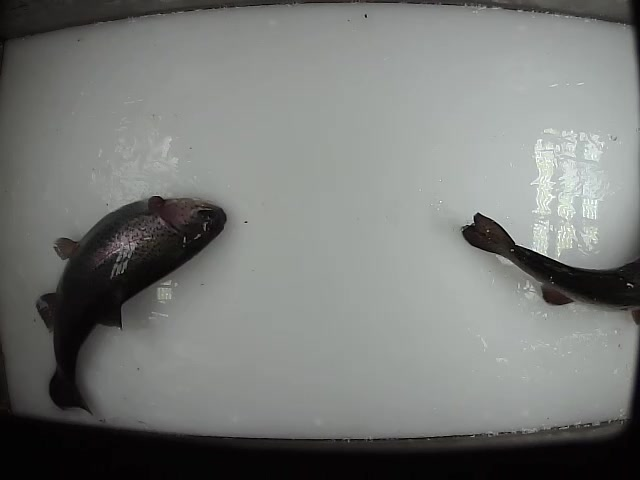fish: (32, 193, 228, 423), (459, 211, 640, 325)
